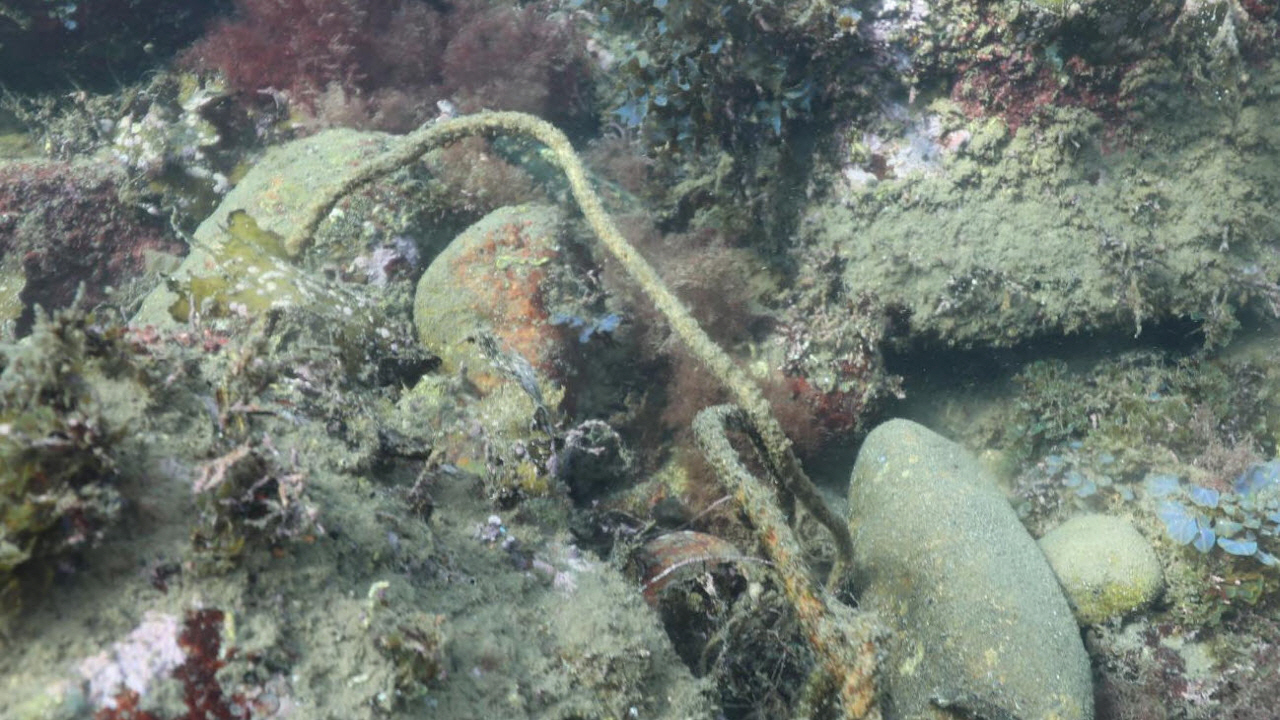bundle of ropes: (243, 106, 892, 720)
